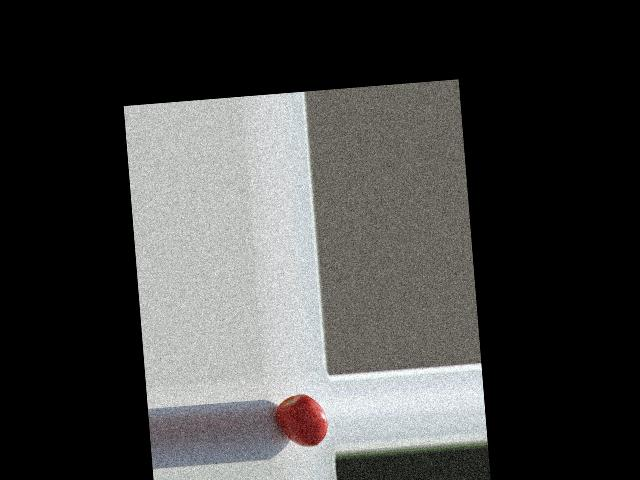tomato: (275, 392, 329, 449)
